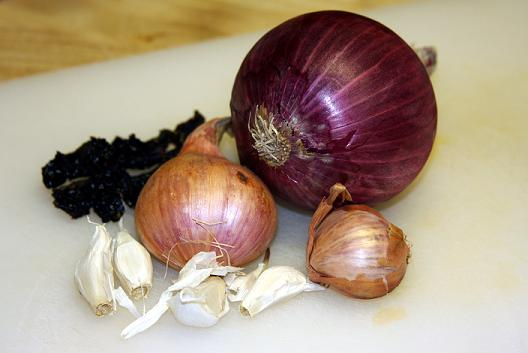onion: (230, 9, 438, 214), (135, 116, 279, 282), (306, 184, 411, 299)
